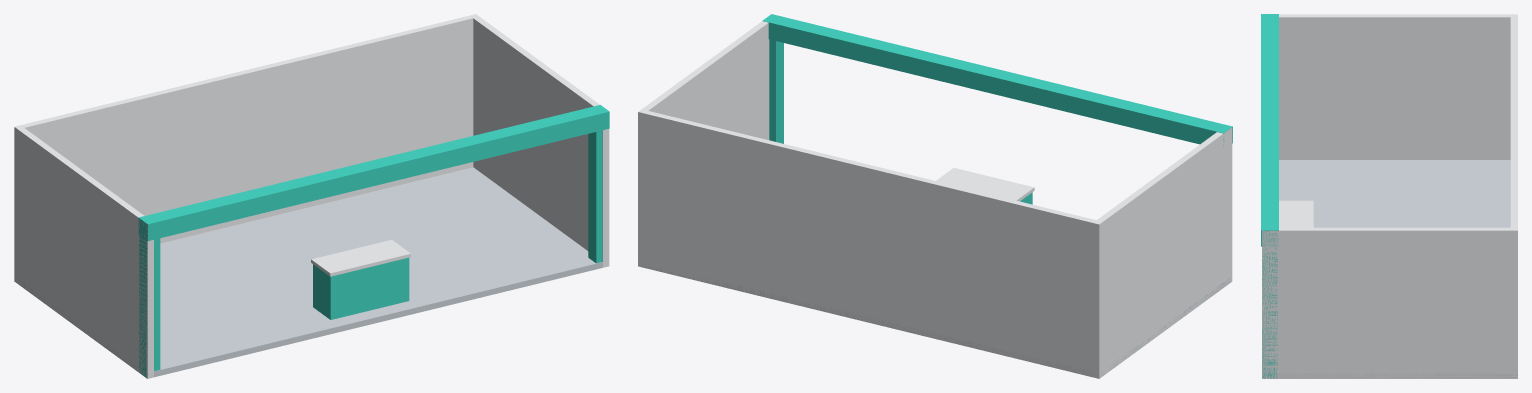
The picture shows the model from 3 angles, left to right: view 1: azimuth 30°, elevation 25°; view 2: azimuth 150°, elevation 25°; view 3: azimuth 270°, elevation 25°; orthographic projection. The views are drawn at different scales.
Visible parts, largest first — view 1: Exhibition Booth Concept; view 2: Exhibition Booth Concept; view 3: Exhibition Booth Concept.
Boxes of the visible parts, x1,y1,x2,y2 form: Exhibition Booth Concept: (14,14,609,378); Exhibition Booth Concept: (638,14,1232,378); Exhibition Booth Concept: (1261,14,1517,378).
Size of the model in its own units: 10 by 3.2 by 5.02.
